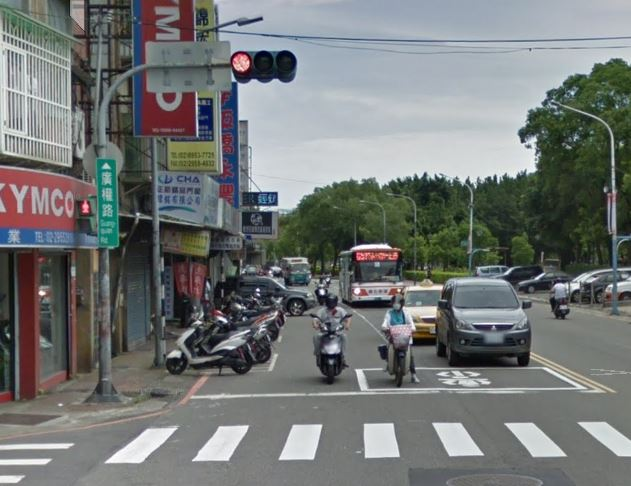Traffic_light_red: (229, 48, 298, 78)
